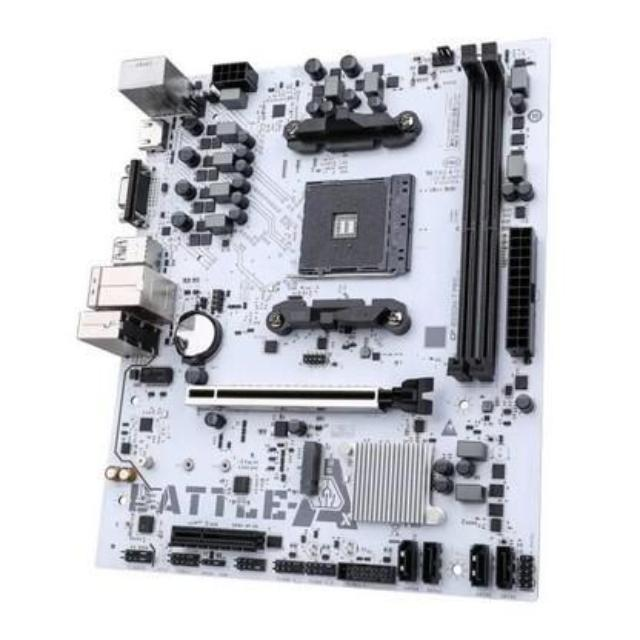Mainboard: (72, 32, 560, 606)
